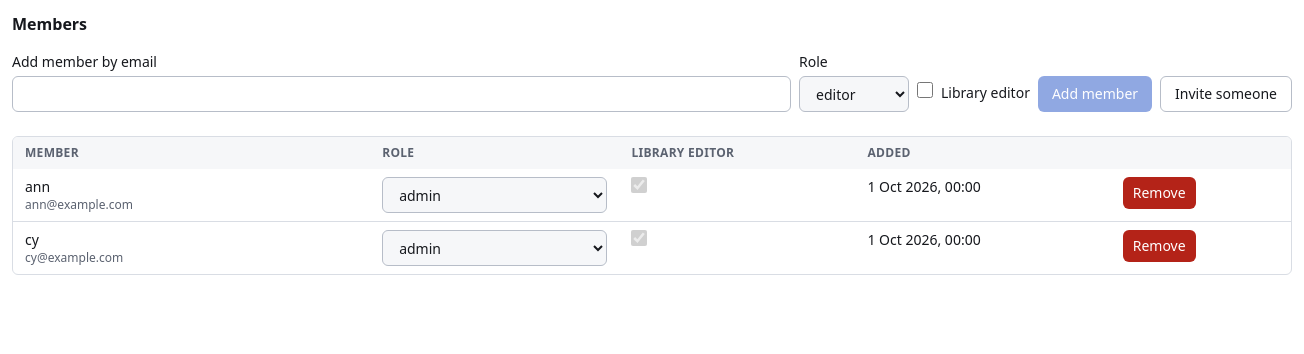
Test: MembersPanel library editor › warns when a role change leaves admin, and sends the role only
Select "editor" in the dropdown named "Role of ann@example.com" in the row of "ann@example.com" at (495,195), box [382,177,608,213]
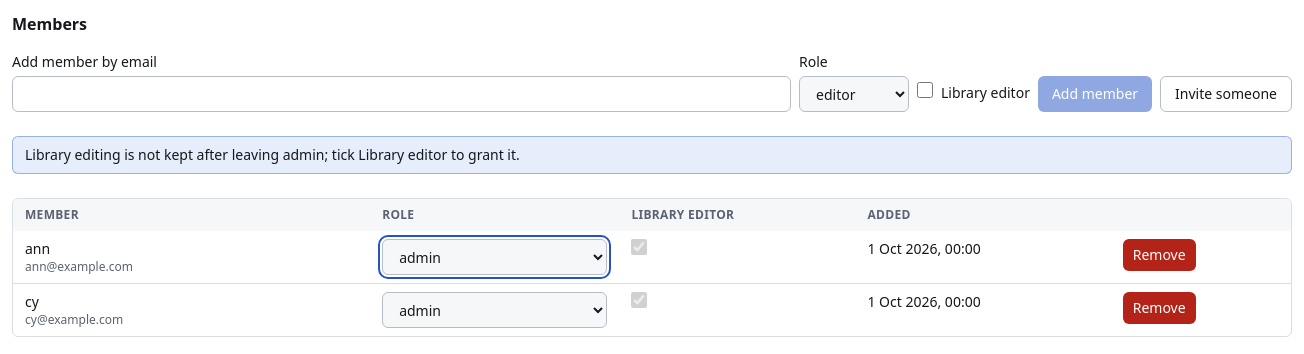
Check: the text "Library editing is not kept after leaving admin; tick Library editor to grant it." is shown, box [25,145,520,164]
